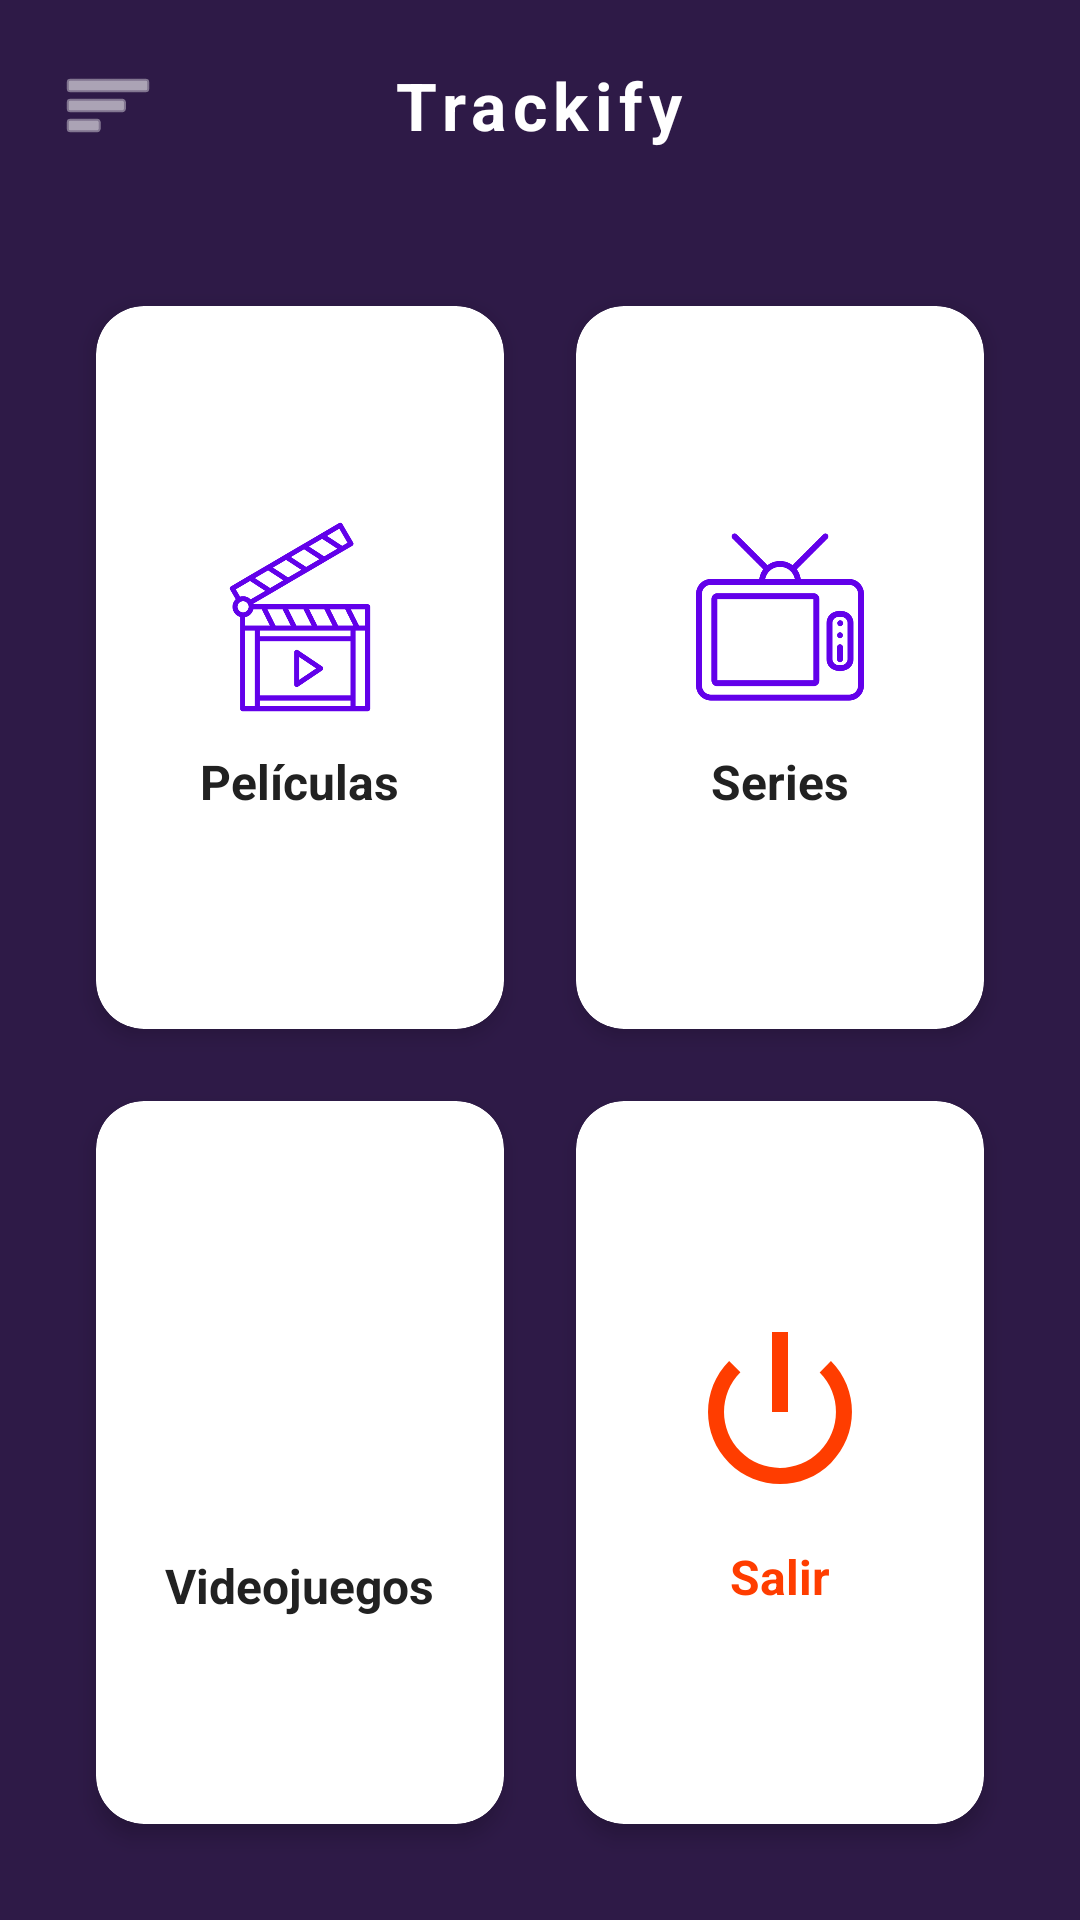

Icon click points for this 1080x1920 phone screenshot, format [x,y]:
claqueta: [300,617]
lock power off: [780,1408]
sort by size: [108,105]
